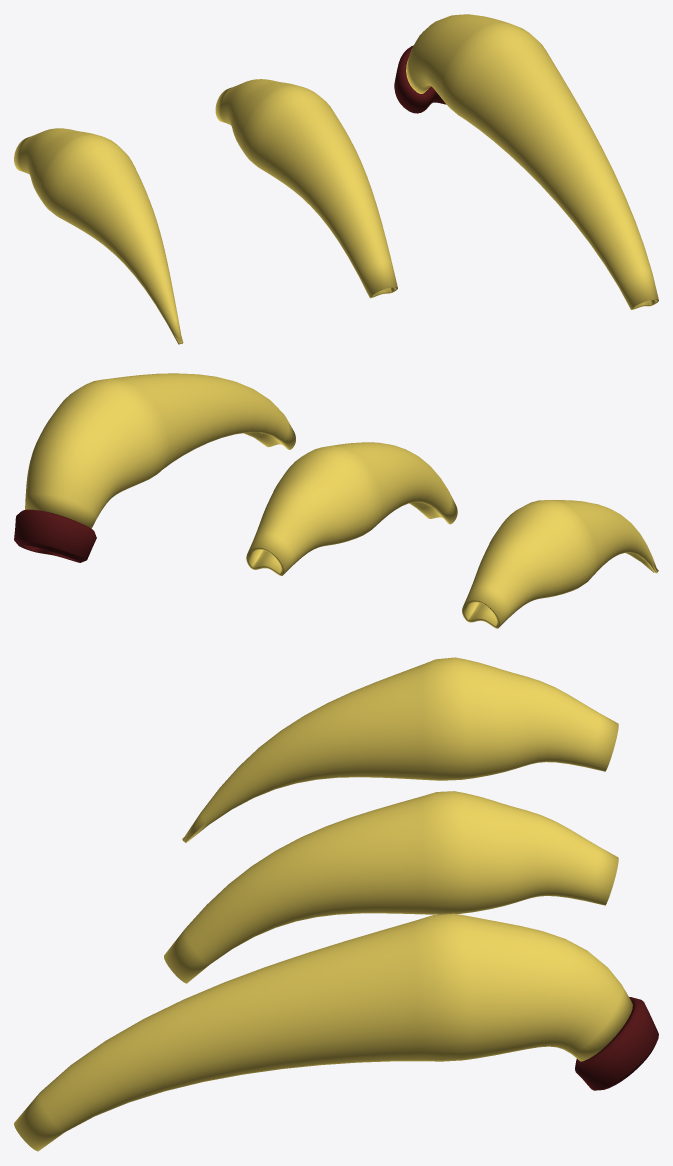
The model's file is hair_1.fbx.
3 renders of one model, top to bottom at view 1: azimuth 30°, elevation 25°; view 2: azimuth 150°, elevation 25°; view 3: azimuth 270°, elevation 25°, orthographic. The views are drawn at different scales.
Visible parts, largest first — view 1: BezierCurve.003, BezierCurve.001, BezierCurve.002; view 2: BezierCurve.003, BezierCurve.001, BezierCurve.002; view 3: BezierCurve.003, BezierCurve.001, BezierCurve.002.
Part boxes in pixels (box(x1,y1,x2,y2)): BezierCurve.003: box(394, 14, 658, 309); BezierCurve.001: box(215, 79, 397, 298); BezierCurve.002: box(14, 128, 183, 344); BezierCurve.003: box(14, 373, 295, 562); BezierCurve.001: box(246, 442, 457, 575); BezierCurve.002: box(462, 500, 658, 628); BezierCurve.003: box(14, 913, 658, 1151); BezierCurve.001: box(164, 791, 618, 983); BezierCurve.002: box(182, 657, 618, 842).
Size of the model in its own units: 181 by 58.41 by 148.
